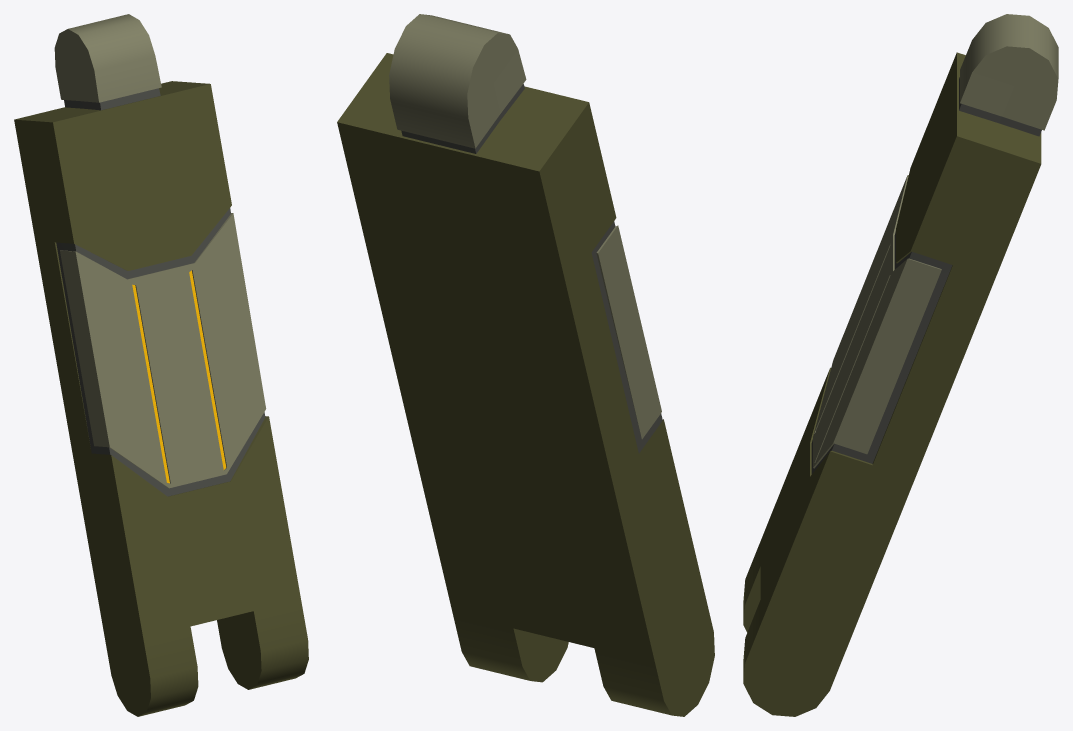
Rendered from Bot_L_LegBottom.fbx.
The picture shows the model from 3 angles, left to right: view 1: azimuth 30°, elevation 25°; view 2: azimuth 150°, elevation 25°; view 3: azimuth 270°, elevation 25°; orthographic projection. The views are drawn at different scales.
Visible parts, largest first — view 1: L_LegBottom; view 2: L_LegBottom; view 3: L_LegBottom.
Part boxes in pixels (x1,y1,x2,y2): L_LegBottom: (14, 14, 308, 716); L_LegBottom: (337, 14, 714, 716); L_LegBottom: (743, 14, 1058, 716).
Bounding box in the file's own units: 1140 × 4092 × 1811.
